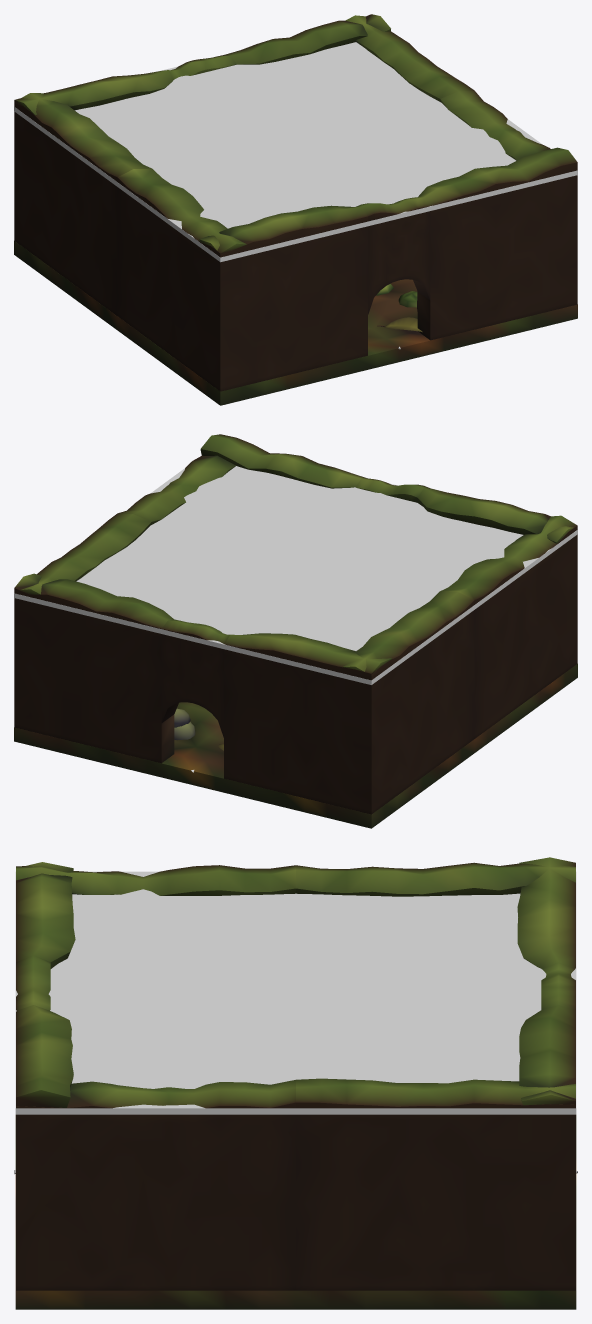
File: mossy_arena_small.fbx
The picture shows the model from 3 angles, top to bottom: view 1: azimuth 30°, elevation 25°; view 2: azimuth 150°, elevation 25°; view 3: azimuth 270°, elevation 25°; orthographic projection. The views are drawn at different scales.
Visible parts, largest first — view 1: BARRIER_Lid, COL_WallS_01, COL_WallS_02, COL_WallW_02, COL_WallW_01, COL_Floor, COL_WallS_03, COL_WallE_01, COL_WallN_02, COL_WallN_01, COL_WallE_02, COL_WallN_03; view 2: BARRIER_Lid, COL_WallN_02, COL_WallN_01, COL_WallW_02, COL_WallW_01, COL_Floor, COL_WallN_03, COL_WallS_01, COL_WallS_02, COL_WallE_01, COL_WallE_02, COL_WallS_03; view 3: BARRIER_Lid, COL_WallE_01, COL_WallE_02, COL_Floor, COL_WallW_02, COL_WallW_01, COL_WallS_01, COL_WallN_01, COL_WallS_02, COL_WallN_02, COL_WallS_03, COL_WallN_03.
Part boxes in pixels (left/top/right/bottom): BARRIER_Lid: left=14, top=42, right=577, bottom=262; COL_WallS_01: left=417, top=147, right=577, bottom=340; COL_WallS_02: left=199, top=205, right=367, bottom=391; COL_WallW_02: left=14, top=93, right=151, bottom=315; COL_WallW_01: left=117, top=168, right=246, bottom=391; COL_Floor: left=14, top=241, right=577, bottom=405; COL_WallS_03: left=356, top=197, right=430, bottom=314; COL_WallE_01: left=345, top=15, right=474, bottom=102; COL_WallN_02: left=224, top=14, right=390, bottom=64; COL_WallN_01: left=14, top=70, right=173, bottom=115; COL_WallE_02: left=440, top=90, right=550, bottom=160; COL_WallN_03: left=168, top=55, right=236, bottom=79; BARRIER_Lid: left=14, top=466, right=577, bottom=684; COL_WallN_02: left=14, top=573, right=174, bottom=763; COL_WallN_01: left=224, top=633, right=392, bottom=814; COL_WallW_02: left=343, top=591, right=474, bottom=814; COL_WallW_01: left=440, top=515, right=577, bottom=738; COL_Floor: left=14, top=664, right=577, bottom=828; COL_WallN_03: left=161, top=619, right=229, bottom=737; COL_WallS_01: left=200, top=434, right=366, bottom=488; COL_WallS_02: left=417, top=488, right=573, bottom=543; COL_WallE_01: left=20, top=513, right=151, bottom=594; COL_WallE_02: left=118, top=455, right=236, bottom=525; COL_WallS_03: left=355, top=478, right=429, bottom=502; BARRIER_Lid: left=15, top=871, right=576, bottom=1114; COL_WallE_01: left=296, top=1078, right=575, bottom=1290; COL_WallE_02: left=16, top=1080, right=295, bottom=1290; COL_Floor: left=15, top=1115, right=576, bottom=1309; COL_WallW_02: left=296, top=862, right=575, bottom=896; COL_WallW_01: left=16, top=865, right=295, bottom=895; COL_WallS_01: left=16, top=1005, right=73, bottom=1107; COL_WallN_01: left=517, top=857, right=575, bottom=968; COL_WallS_02: left=16, top=862, right=75, bottom=968; COL_WallN_02: left=519, top=1005, right=575, bottom=1105; COL_WallS_03: left=16, top=955, right=50, bottom=1010; COL_WallN_03: left=541, top=962, right=575, bottom=1009.
Bounding box in the file's own units: 16000 × 6952 × 16100.
